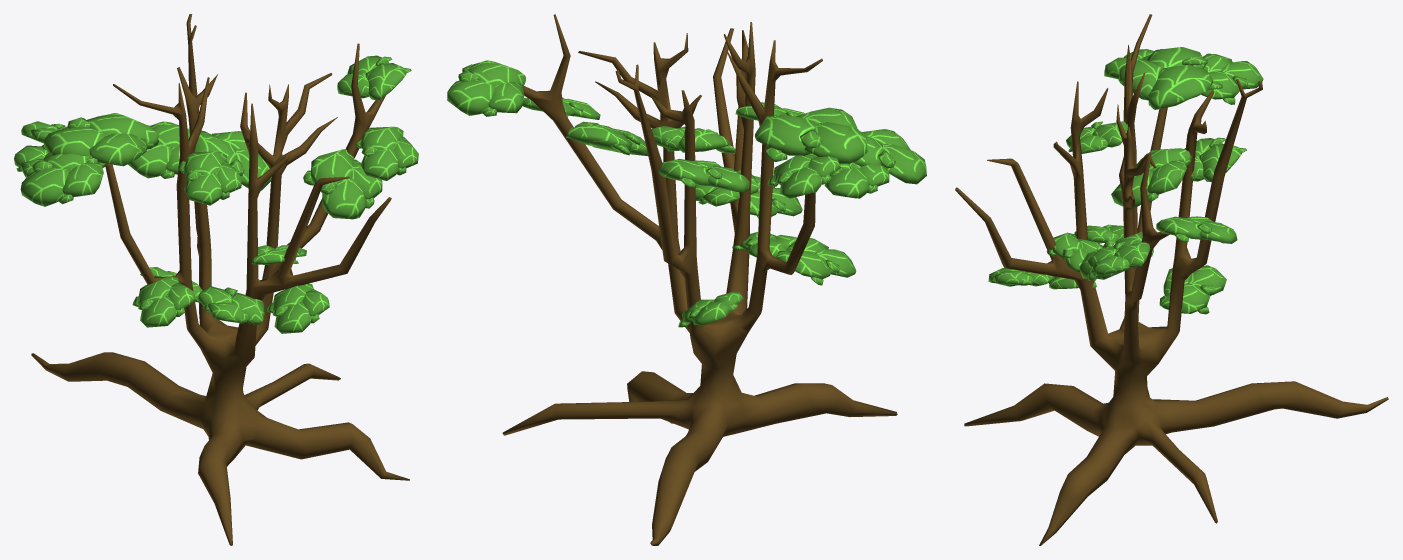
File: Arbol4LOD1.fbx
3 views of the same model, side by side, from view 1: azimuth 30°, elevation 25°; view 2: azimuth 150°, elevation 25°; view 3: azimuth 270°, elevation 25° (orthographic). The views are drawn at different scales.
Visible parts, largest first — view 1: ArbolLOD1; view 2: ArbolLOD1; view 3: ArbolLOD1.
Part boxes in pixels (box(x1,y1,x2,y2)): ArbolLOD1: box(14, 14, 418, 545); ArbolLOD1: box(447, 14, 926, 545); ArbolLOD1: box(955, 14, 1388, 545).
Size of the model in its own units: 5067 by 4976 by 4717.
